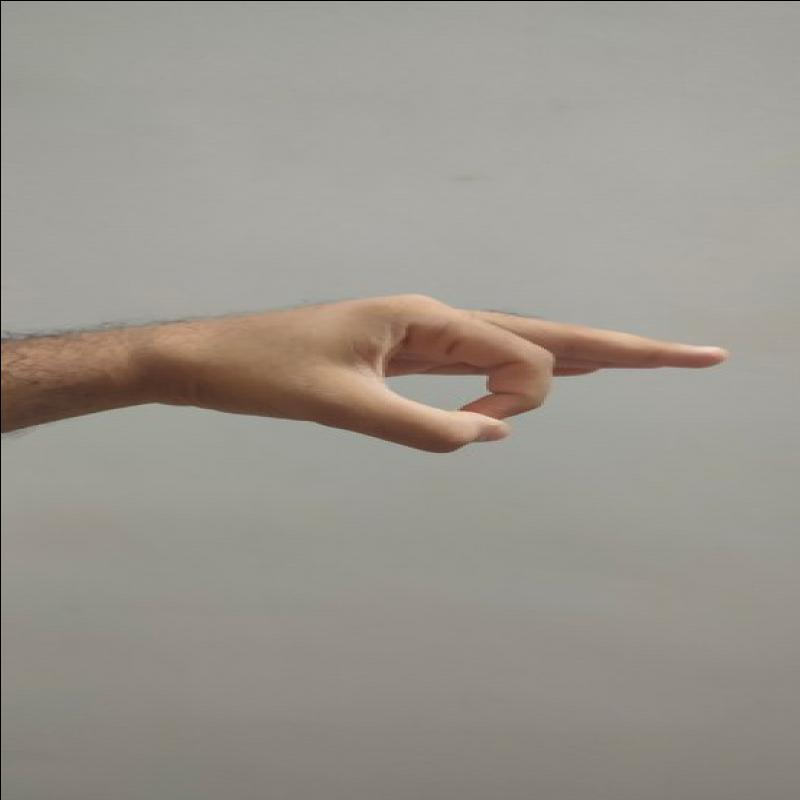Mudraakhyam: (149, 274, 739, 468)
